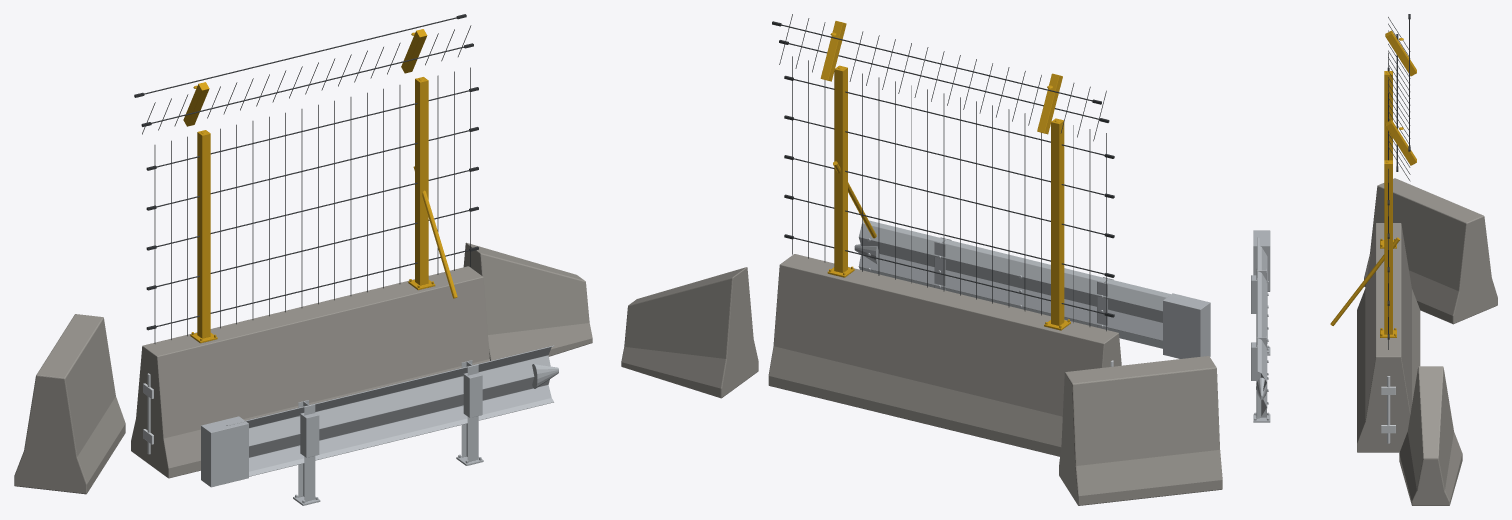
The model's file is safety-barriers.glb.
3 renders of one model, left to right at view 1: azimuth 30°, elevation 25°; view 2: azimuth 150°, elevation 25°; view 3: azimuth 270°, elevation 25°, orthographic. The views are drawn at different scales.
Parts seen in each view (by area): view 1: Concrete_Barrier, Guardrail_Section, Concrete_Barrier_Corner, Concrete_Barrier_EndCap, CatchFence_Mesh, CatchFence_Post_B, CatchFence_Post_A, Guardrail_CornerBracket, Guardrail_Post_A, Guardrail_Post_B; view 2: Concrete_Barrier, Concrete_Barrier_Corner, Guardrail_Section, Concrete_Barrier_EndCap, CatchFence_Mesh, CatchFence_Post_B, CatchFence_Post_A, Guardrail_CornerBracket; view 3: Concrete_Barrier_Corner, Concrete_Barrier, Concrete_Barrier_EndCap, CatchFence_Post_B, Guardrail_Section, CatchFence_Mesh, CatchFence_Post_A, Guardrail_CornerBracket, Connection_Hardware.
Boxes of the visible parts, x1=… form: Concrete_Barrier: x1=131, y1=266, x2=489, y2=478; Guardrail_Section: x1=226, y1=345, x2=553, y2=476; Concrete_Barrier_Corner: x1=14, y1=314, x2=125, y2=494; Concrete_Barrier_EndCap: x1=463, y1=242, x2=592, y2=360; CatchFence_Mesh: x1=134, y1=14, x2=478, y2=343; CatchFence_Post_B: x1=401, y1=29, x2=457, y2=298; CatchFence_Post_A: x1=183, y1=82, x2=217, y2=343; Guardrail_CornerBracket: x1=201, y1=416, x2=248, y2=487; Guardrail_Post_A: x1=293, y1=400, x2=320, y2=505; Guardrail_Post_B: x1=456, y1=360, x2=483, y2=465; Concrete_Barrier: x1=768, y1=254, x2=1121, y2=456; Concrete_Barrier_Corner: x1=1059, y1=356, x2=1222, y2=505; Guardrail_Section: x1=858, y1=220, x2=1188, y2=348; Concrete_Barrier_EndCap: x1=621, y1=267, x2=758, y2=398; CatchFence_Mesh: x1=772, y1=14, x2=1114, y2=331; CatchFence_Post_B: x1=820, y1=21, x2=876, y2=277; CatchFence_Post_A: x1=1037, y1=73, x2=1070, y2=330; Guardrail_CornerBracket: x1=1163, y1=293, x2=1210, y2=358; Concrete_Barrier_Corner: x1=1364, y1=178, x2=1497, y2=324; Concrete_Barrier: x1=1357, y1=223, x2=1420, y2=452; Concrete_Barrier_EndCap: x1=1399, y1=366, x2=1462, y2=505; CatchFence_Post_B: x1=1330, y1=120, x2=1416, y2=337; Guardrail_Section: x1=1251, y1=237, x2=1268, y2=418; CatchFence_Mesh: x1=1387, y1=14, x2=1410, y2=349; CatchFence_Post_A: x1=1380, y1=30, x2=1416, y2=248; Guardrail_CornerBracket: x1=1253, y1=230, x2=1270, y2=291; Connection_Hardware: x1=1381, y1=376, x2=1395, y2=443.
Bounding box in the file's own units: 5.33 × 3.22 × 2.33.
